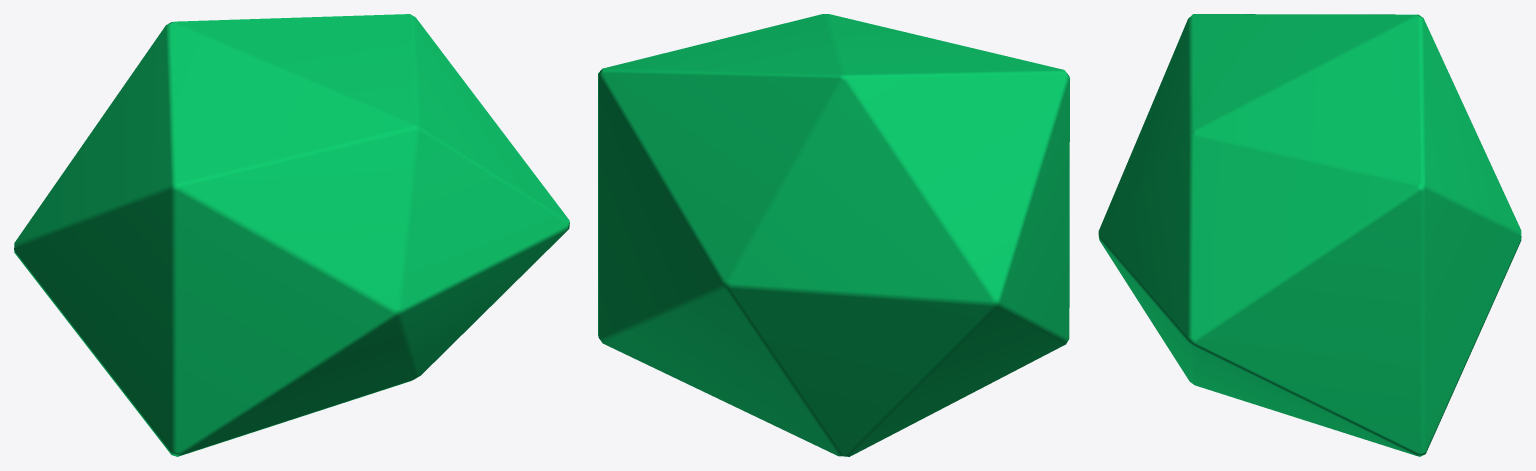
Rendered from EmeraldGem.fbx.
3 views of the same model, side by side, from view 1: azimuth 30°, elevation 25°; view 2: azimuth 150°, elevation 25°; view 3: azimuth 270°, elevation 25° (orthographic).
Visible parts, largest first — view 1: EmeraldGem1; view 2: EmeraldGem1; view 3: EmeraldGem1.
Part boxes in pixels (box(x1,y1,x2,y2)): EmeraldGem1: box(14, 14, 569, 456); EmeraldGem1: box(598, 14, 1069, 456); EmeraldGem1: box(1098, 14, 1521, 456).
Bounding box in the file's own units: 105 × 86.22 × 86.67.
